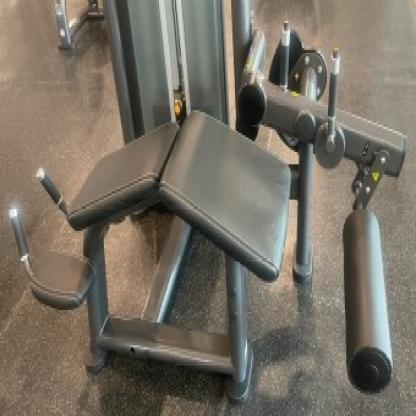reg curl machine: (8, 0, 410, 409)
